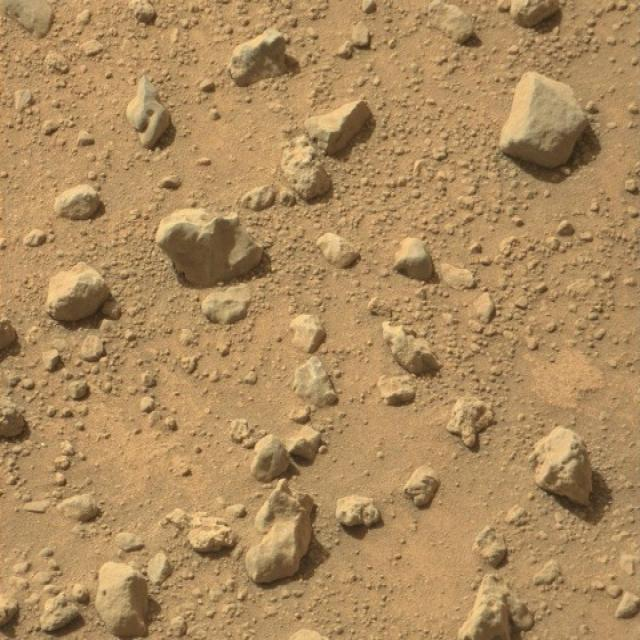mars-rocks: (156, 208, 263, 288), (500, 71, 588, 168), (245, 480, 314, 586), (530, 427, 594, 506), (95, 564, 146, 638), (48, 263, 109, 322), (305, 101, 372, 154), (281, 135, 333, 200)
